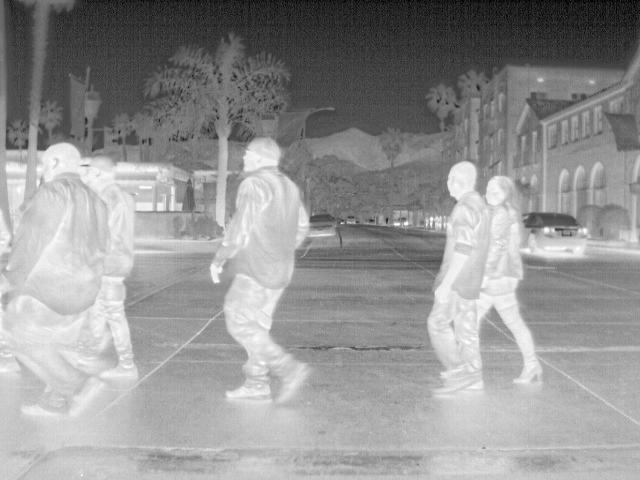car: (520, 211, 590, 258), (306, 213, 336, 239), (342, 213, 357, 226)
person: (2, 140, 110, 419), (210, 133, 314, 405), (424, 157, 494, 396), (477, 174, 543, 386), (80, 154, 140, 383)
